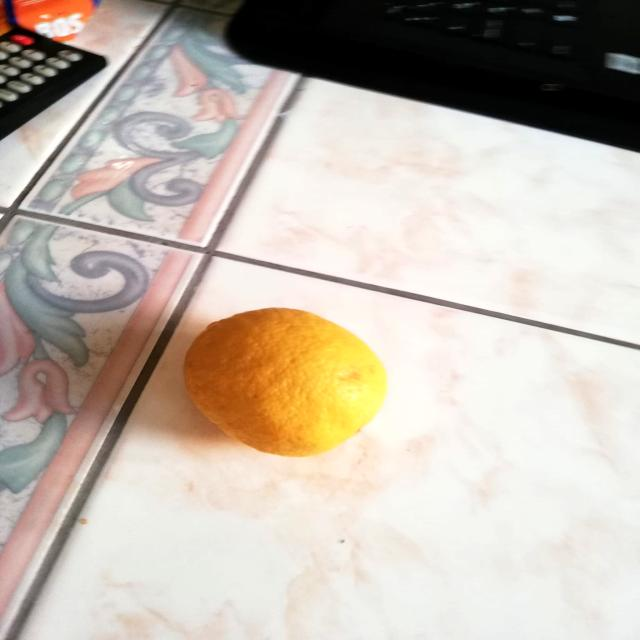lemon: (175, 301, 396, 460)
